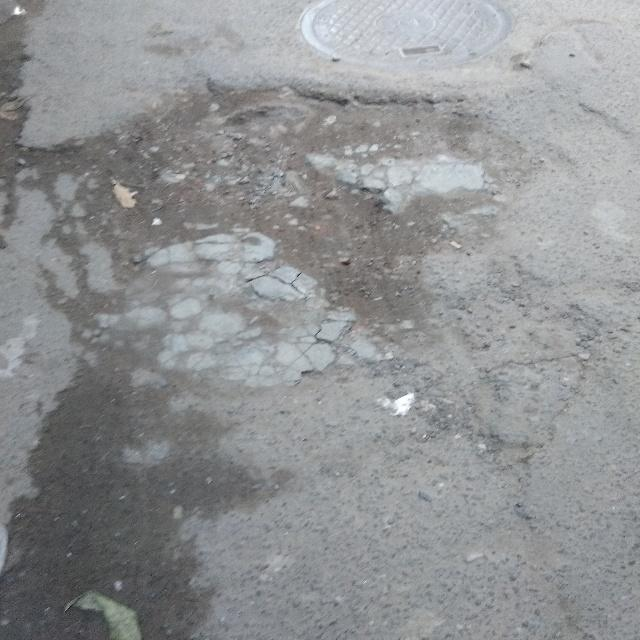Pothole: (172, 101, 468, 265)
Surface Erosion: (38, 25, 640, 622)
